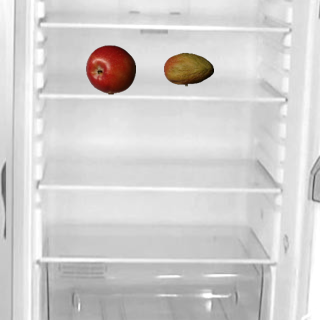Apple Braeburn: (85, 44, 135, 94)
Papaya: (163, 44, 213, 94)
